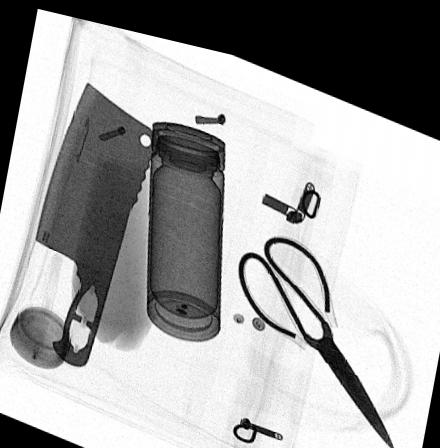Knife: (33, 77, 159, 362)
Scissors: (235, 222, 395, 431)
